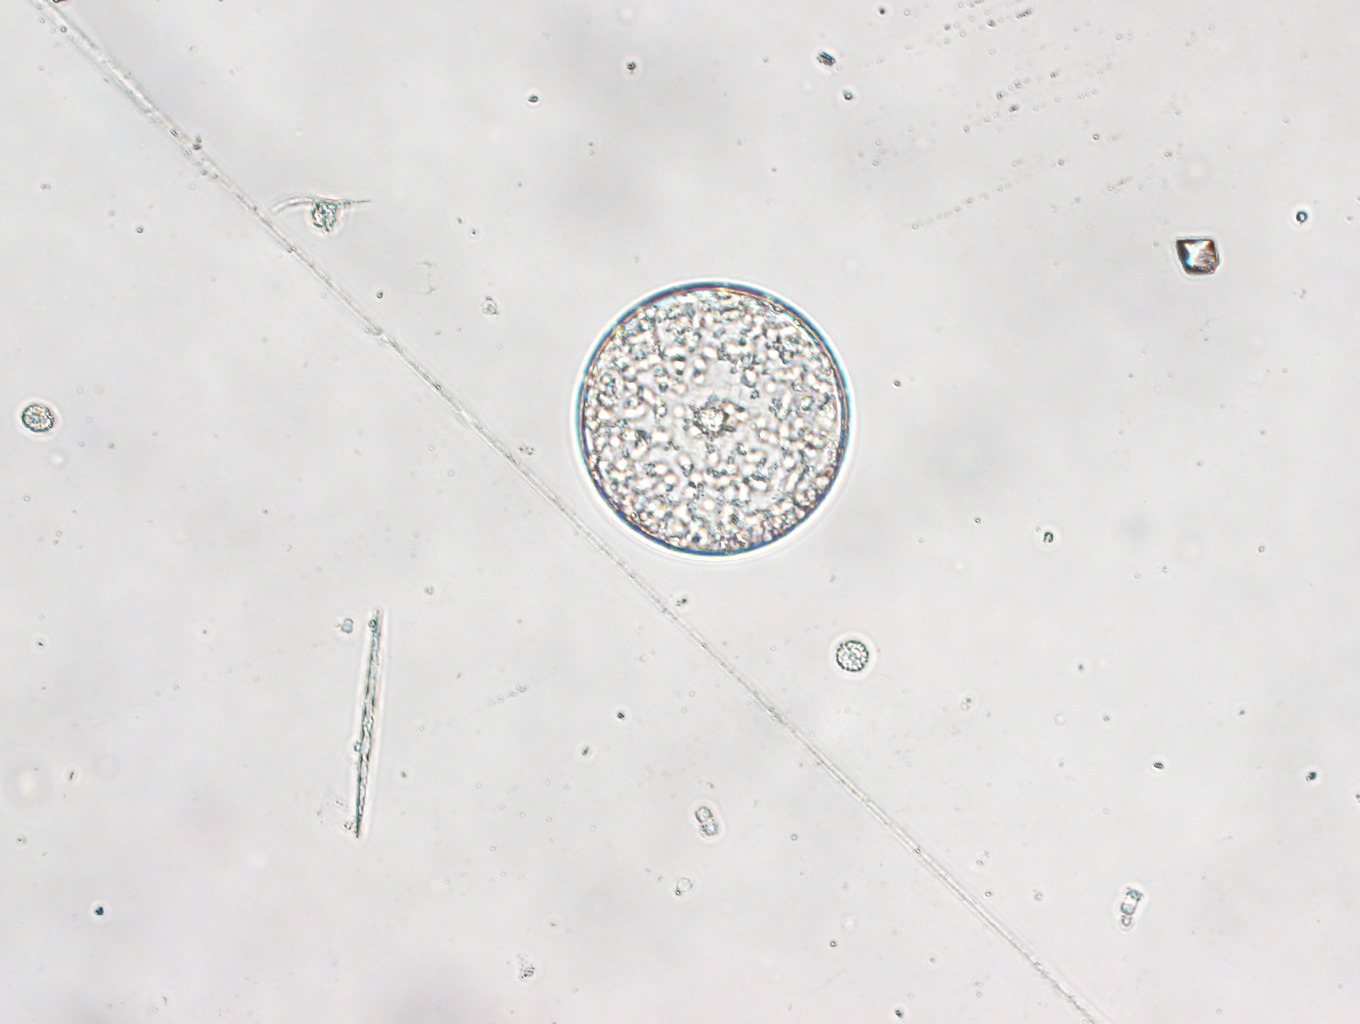coscinodiscus: (573, 278, 850, 558)
